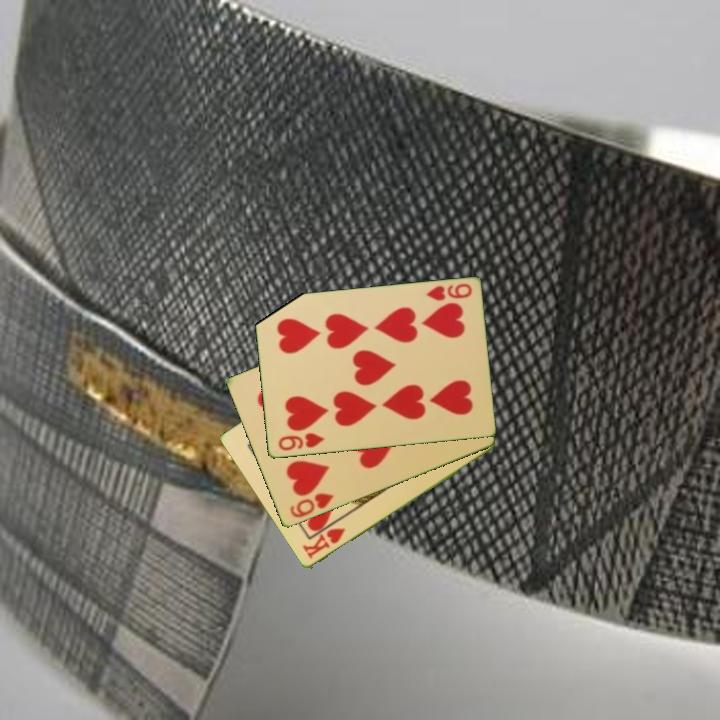6h: (286, 490, 336, 521)
9h: (274, 429, 327, 454), (422, 280, 475, 304)
Kh: (299, 525, 348, 562)
